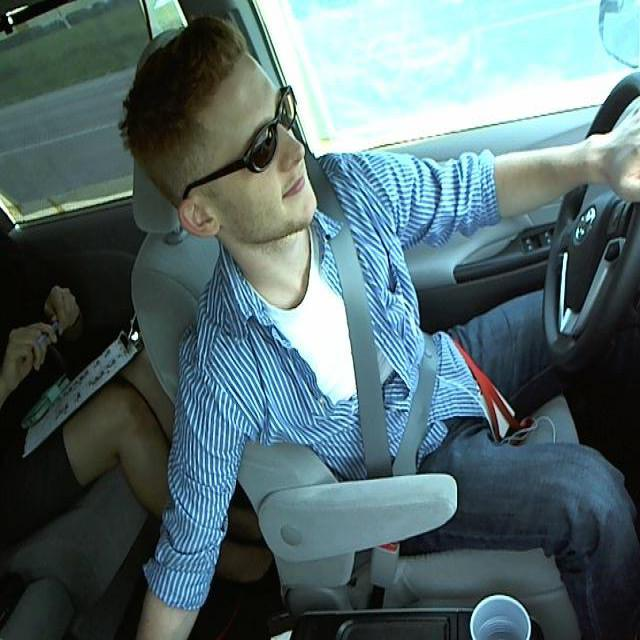seatbelt: (317, 217, 437, 472)
